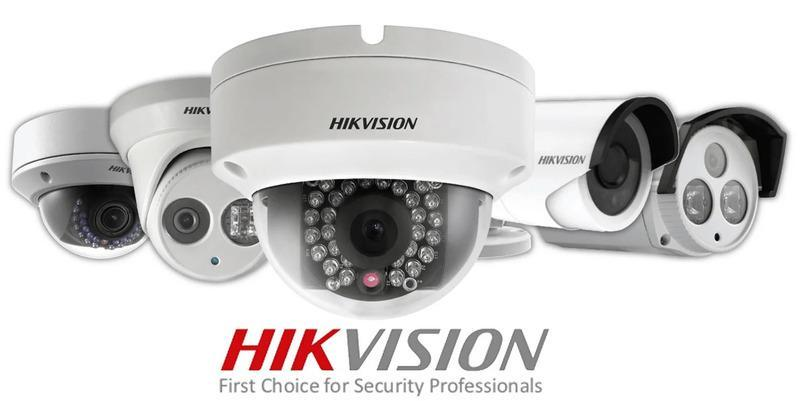dome: (208, 24, 543, 312)
